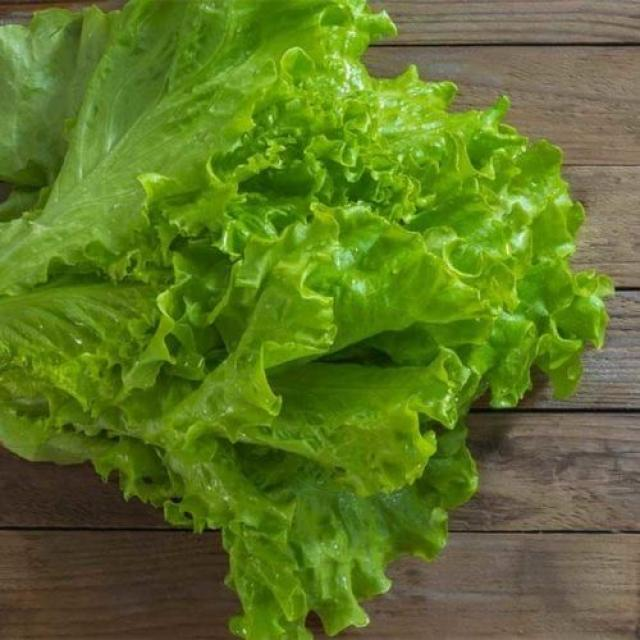lettuce: (0, 0, 610, 638)
